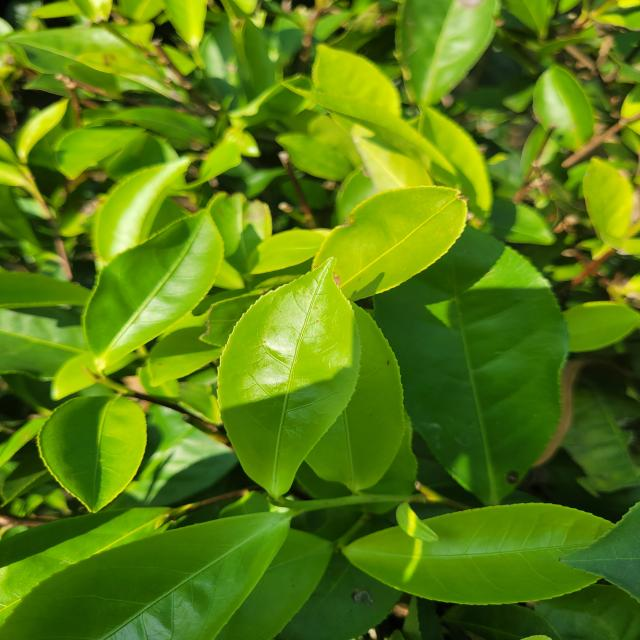Catagory A 1-2 days: (194, 241, 369, 512)
